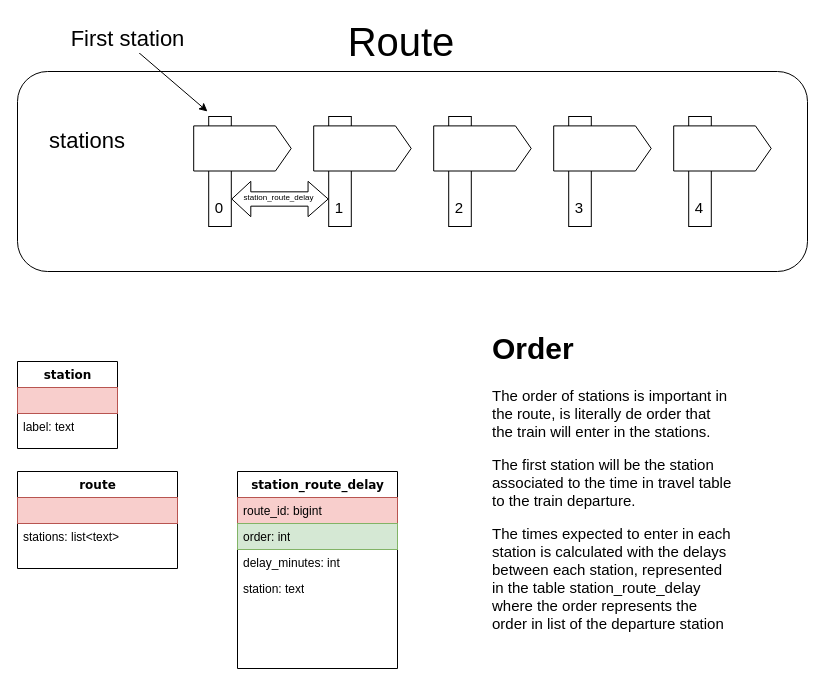
The diagram is 825 pixels wide and 686 high, and some of its shapes have lost their labels. Here are the shapes that lost their labels. From the top down, the centre of each, then its label:
At [67,400]: "name: text".
At [97,510]: "id: bigint".
